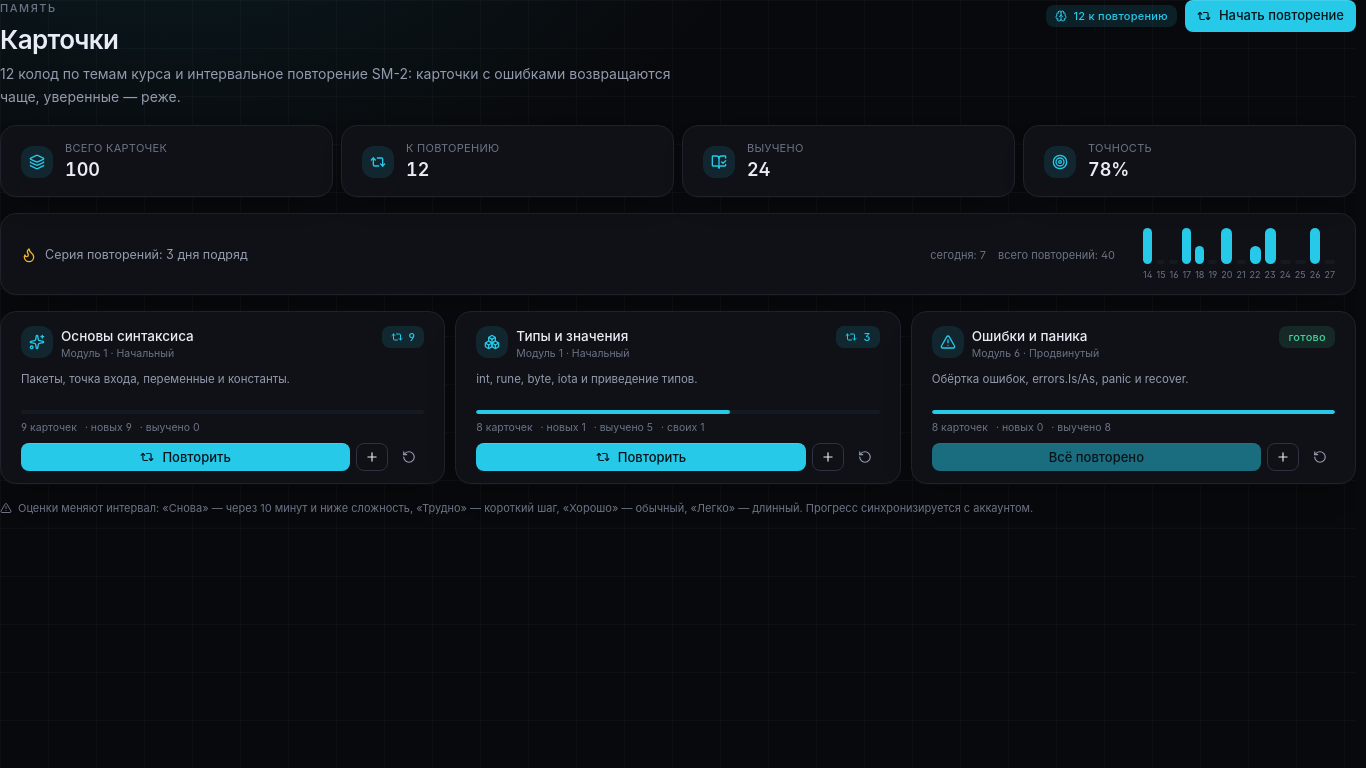
FlashcardsPage › завершает сессию и показывает итоги
This screenshot has width=1366, height=768.
Step 1. Click the button "Начать повторение" → coordinates (1270, 16), box [1185,0,1356,32]
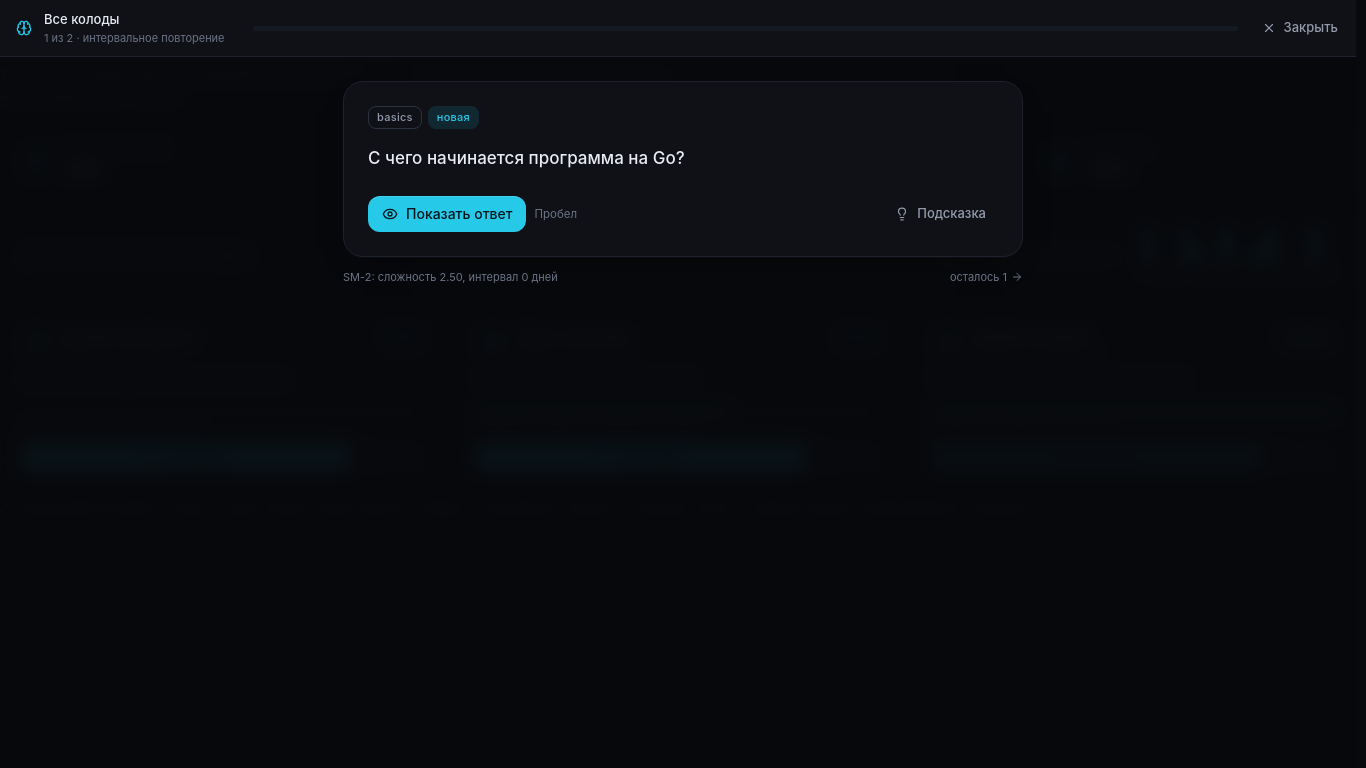
Result: the text "С чего начинается программа на Go?" is shown at [368,148,685,168]
Step 2. Click the button "Показать ответ" → coordinates (447, 214), box [368,196,526,232]
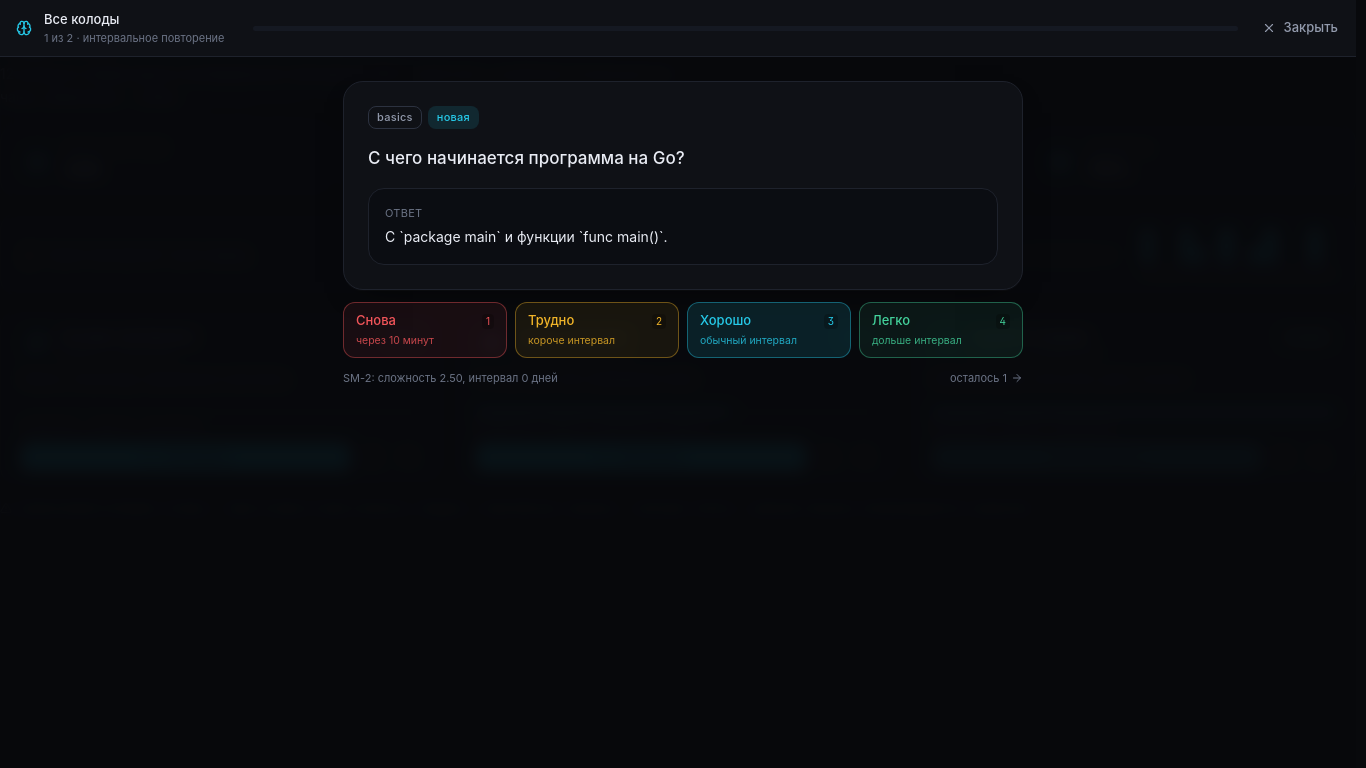
Step 3. Click the button "Хорошо 3 обычный интервал" → coordinates (769, 330), box [687,302,851,358]
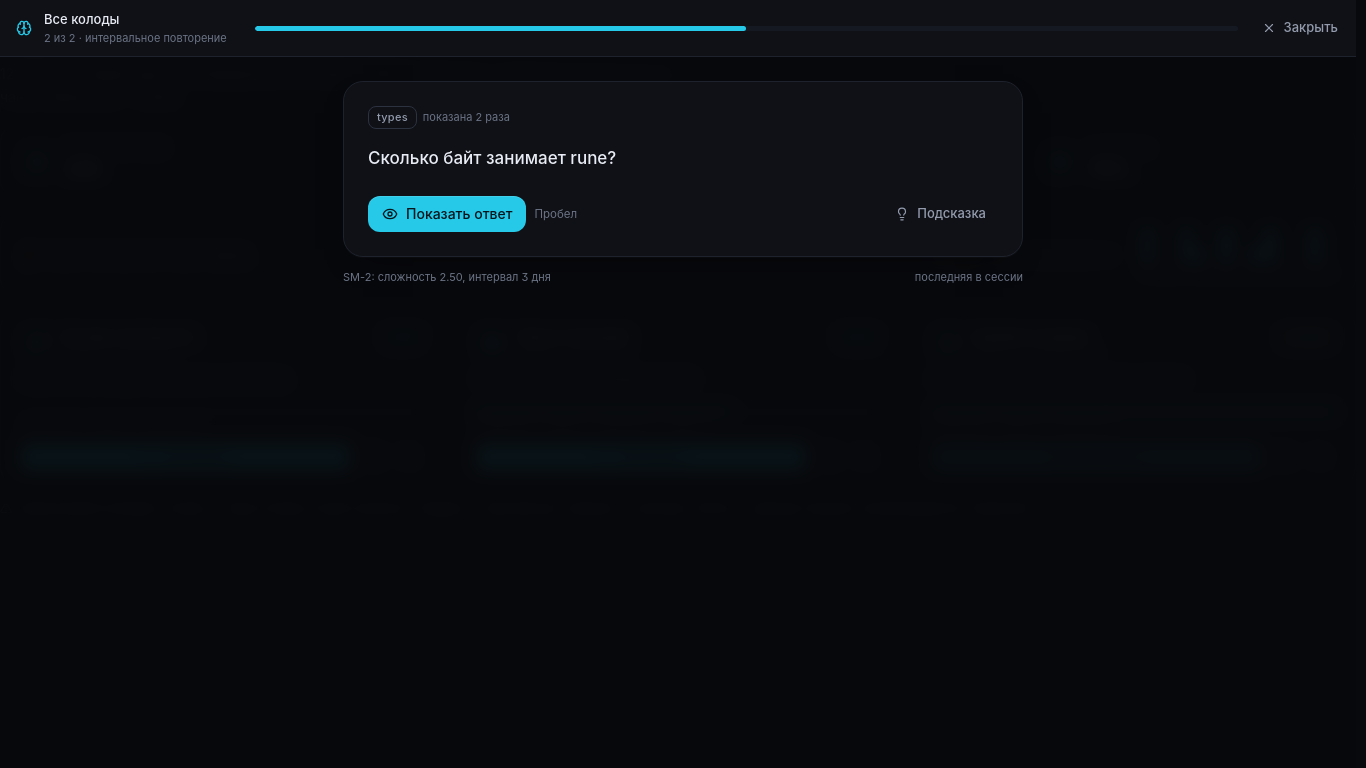
Result: the text "Сколько байт занимает rune?" is shown at [368,148,616,168]
Step 4. Click the button "Показать ответ" → coordinates (447, 214), box [368,196,526,232]
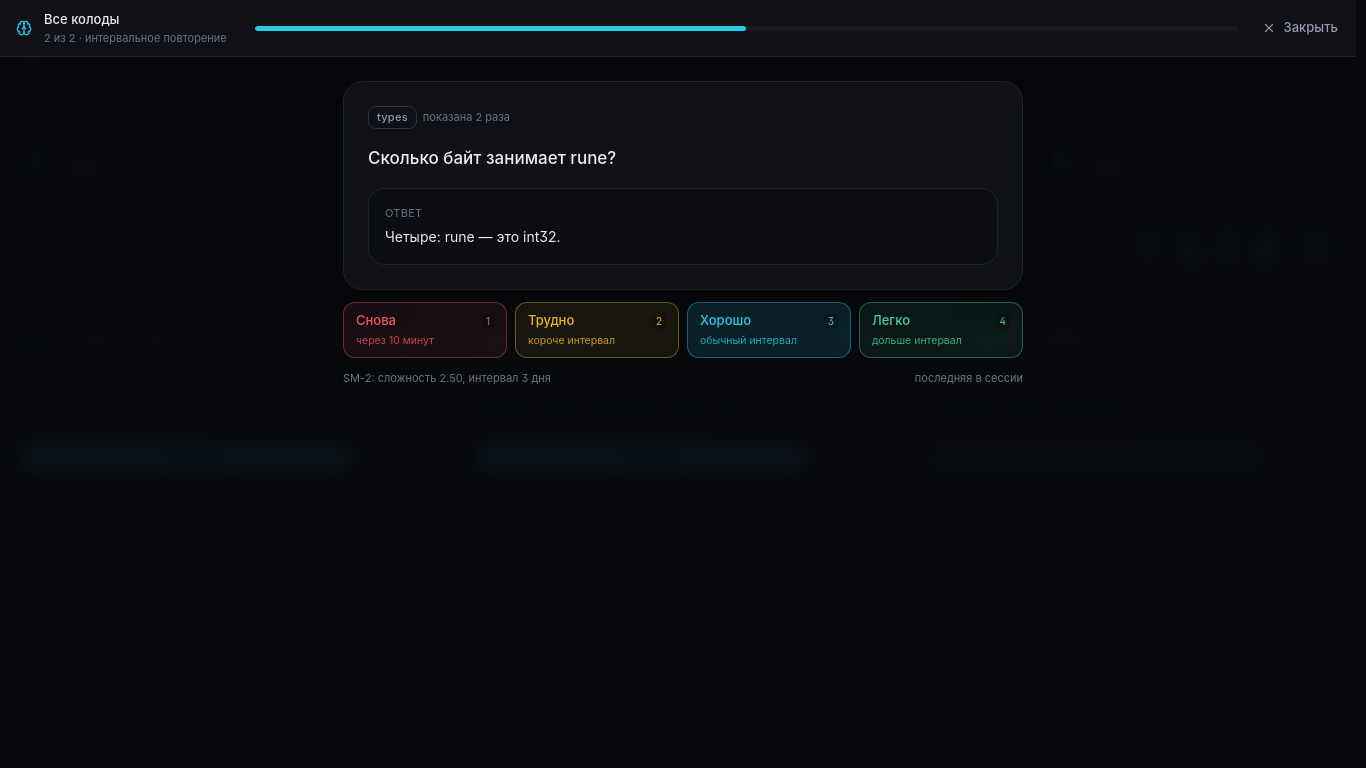
Step 5. Click the button "Хорошо 3 обычный интервал" → coordinates (769, 330), box [687,302,851,358]
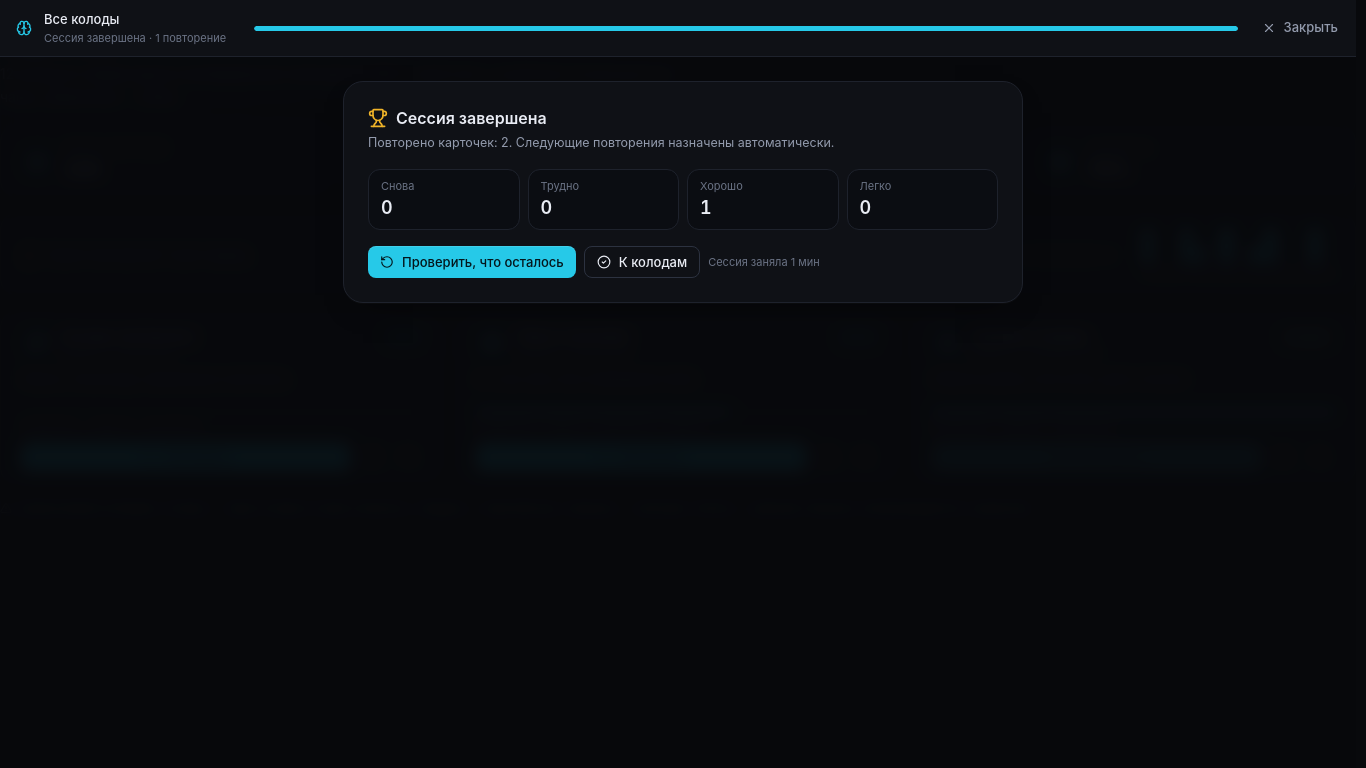
Result: the heading "Сессия завершена" is shown at [396,106,547,130]
Result: the button "К колодам" is shown at [584,246,700,278]
